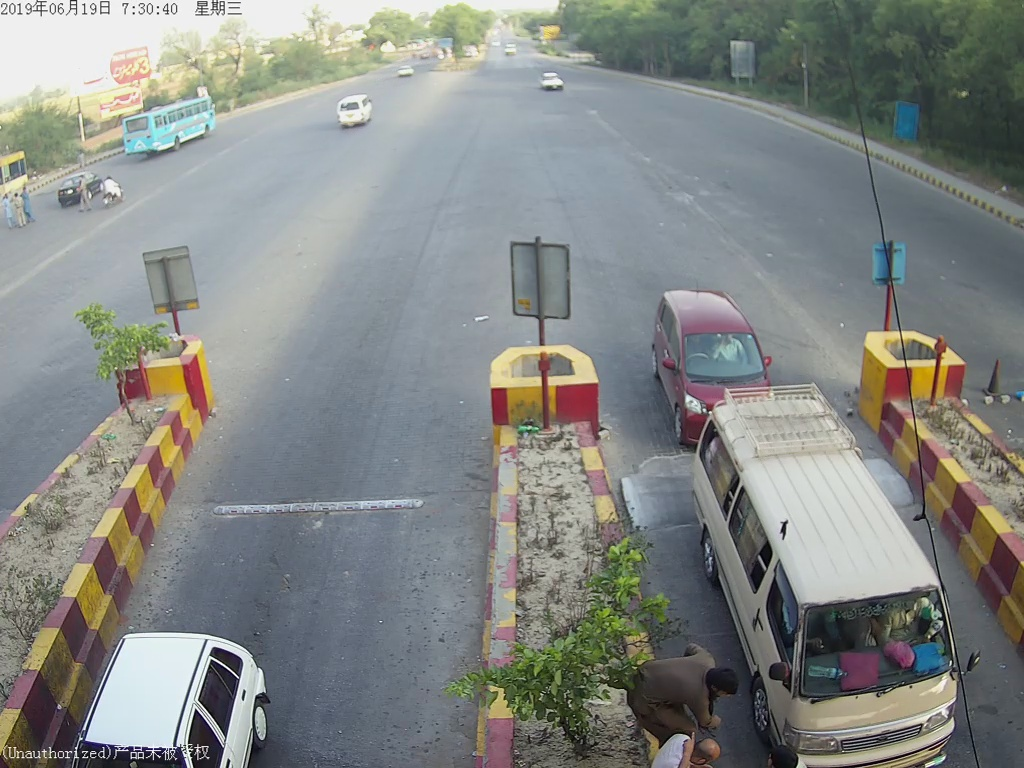Cat-1: (643, 293, 776, 383)
Cat-2: (696, 407, 967, 728)
